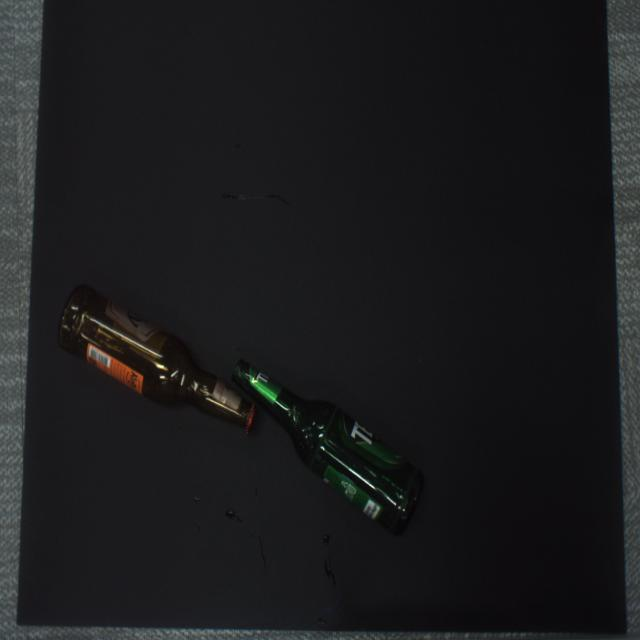beer-bottle: (232, 361, 422, 535), (59, 286, 256, 434)
